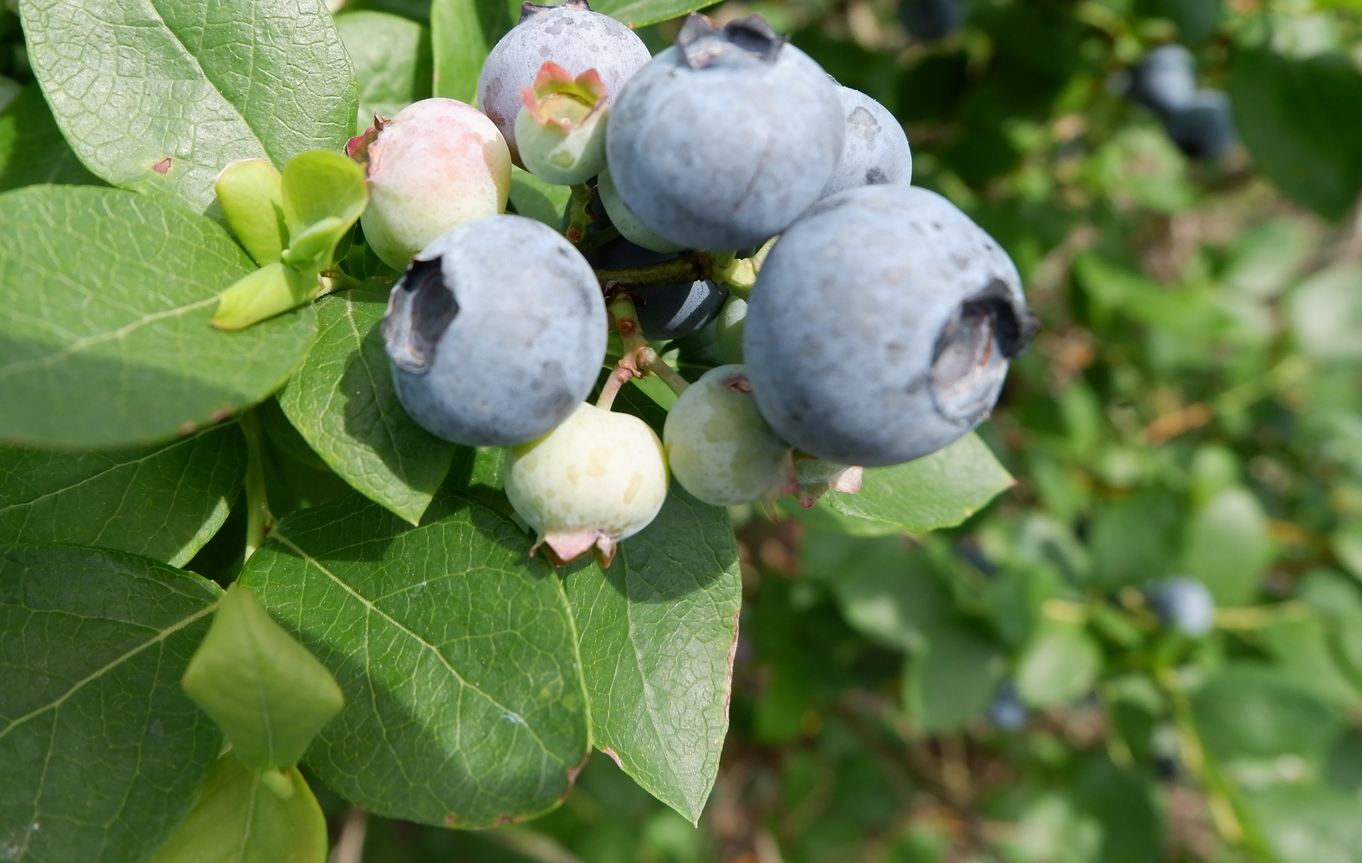Immature: (352, 99, 504, 274), (506, 408, 665, 566), (668, 369, 799, 503), (515, 60, 609, 183), (788, 449, 862, 505), (717, 292, 749, 365)
Mature: (747, 191, 1020, 460), (611, 11, 840, 247), (386, 222, 598, 442), (479, 8, 650, 136), (822, 89, 910, 201), (626, 278, 732, 344), (601, 171, 675, 250)
